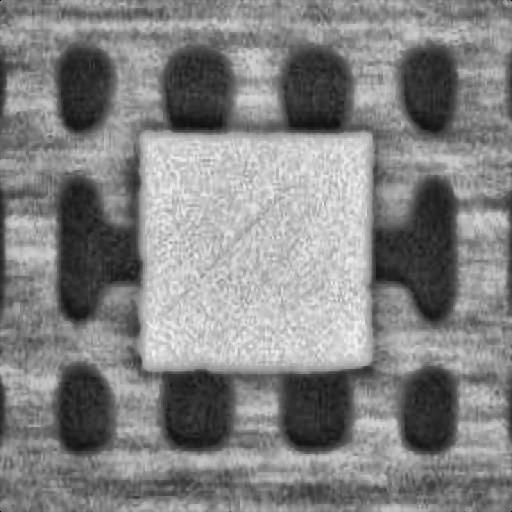DIE_CRACK: (228, 123, 427, 215)
